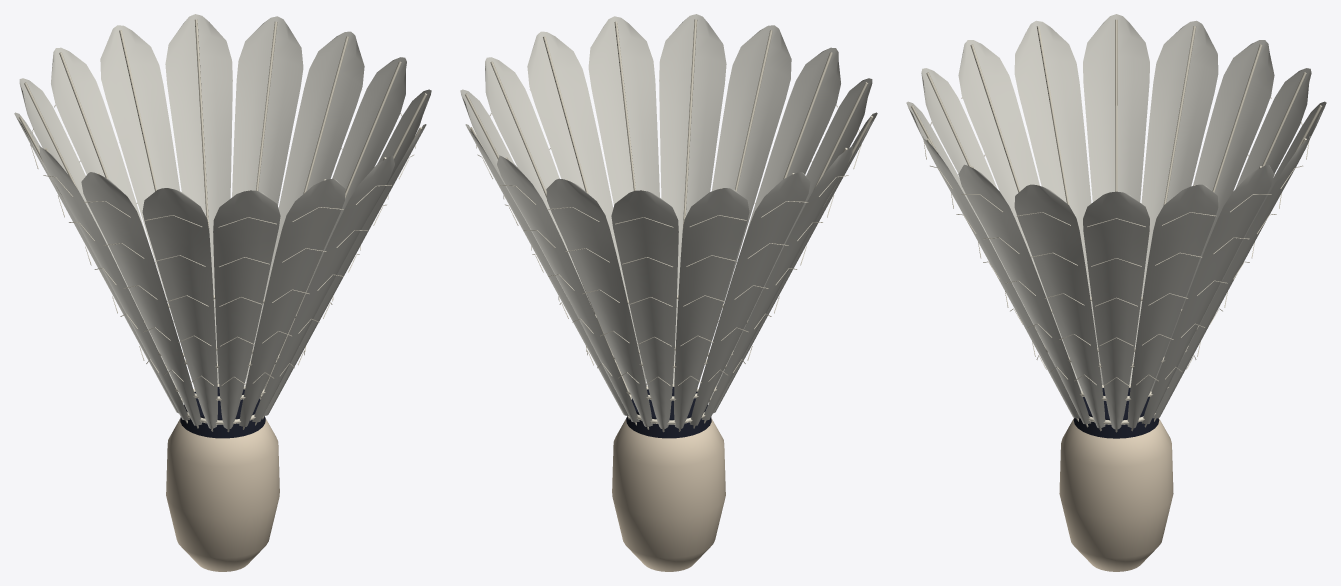
File: shuttlecock.glb
3 views of the same model, side by side, from view 1: azimuth 30°, elevation 25°; view 2: azimuth 150°, elevation 25°; view 3: azimuth 270°, elevation 25° (orthographic).
Visible parts, largest first — view 1: Zawana_Sixteen_Feather_Shuttlecock; view 2: Zawana_Sixteen_Feather_Shuttlecock; view 3: Zawana_Sixteen_Feather_Shuttlecock.
Boxes of the visible parts, x1,y1,x2,y2 form: Zawana_Sixteen_Feather_Shuttlecock: (14, 14, 431, 571); Zawana_Sixteen_Feather_Shuttlecock: (460, 14, 877, 571); Zawana_Sixteen_Feather_Shuttlecock: (906, 14, 1326, 571).
Bounding box in the file's own units: 1.36 × 1.66 × 1.36.
